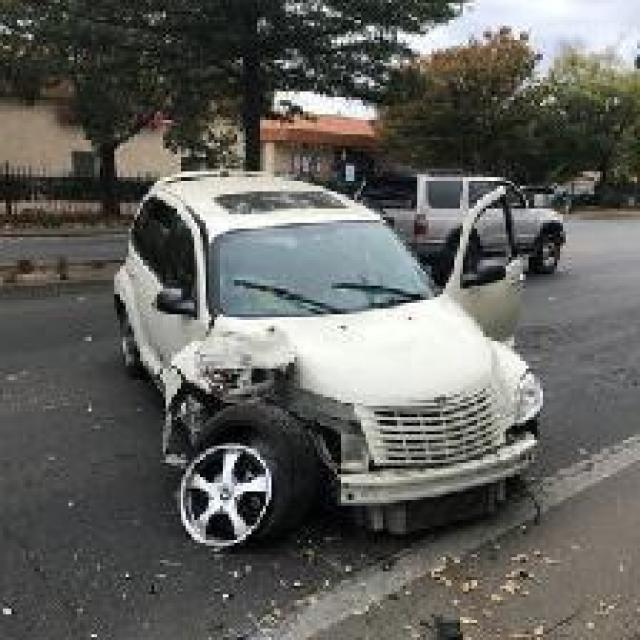damaged: (160, 326, 377, 560), (466, 334, 548, 509)
